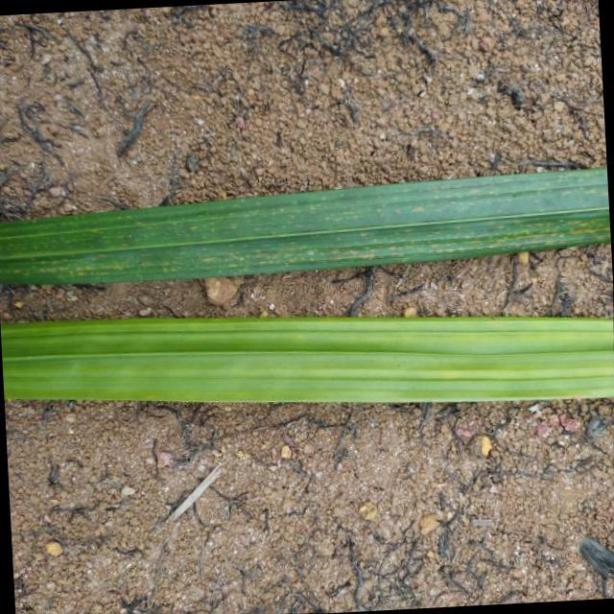nitrogen: (0, 165, 614, 286), (0, 307, 614, 406)
